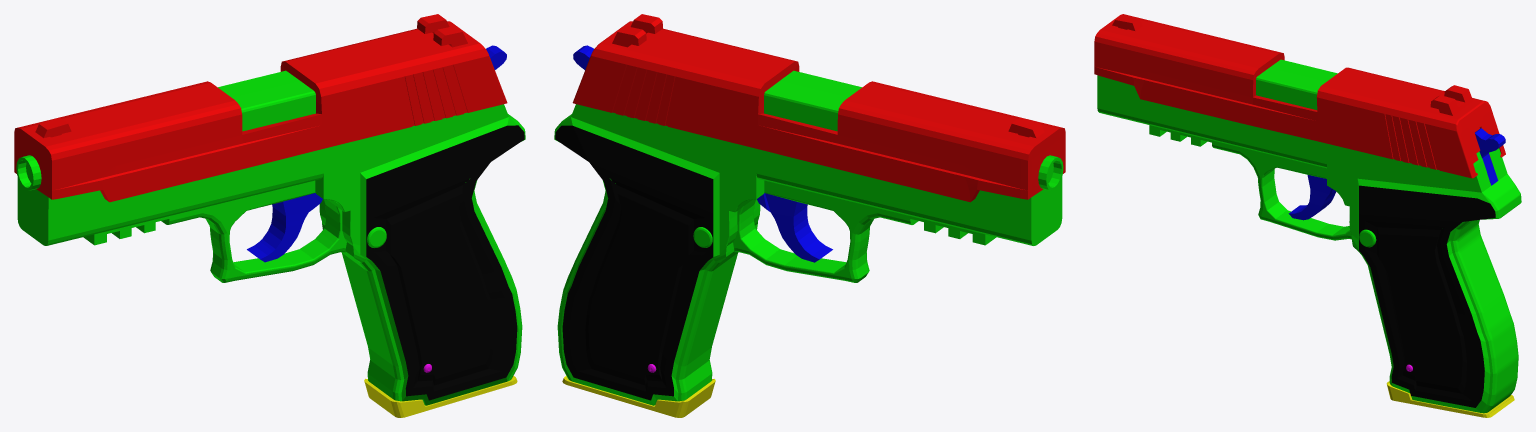
The picture shows the model from 3 angles, left to right: view 1: azimuth 30°, elevation 25°; view 2: azimuth 150°, elevation 25°; view 3: azimuth 330°, elevation 25°; orthographic projection. The views are drawn at different scales.
Visible parts, largest first — view 1: Receiver_hi, Slide_hi, Trigger_hi, Magazine_hi; view 2: Receiver_hi, Slide_hi, Trigger_hi, Magazine_hi; view 3: Receiver_hi, Slide_hi, Trigger_hi, Magazine_hi, Hammer_hi.
Boxes of the visible parts, x1,y1,x2,y2 form: Receiver_hi: [16, 70, 525, 405]; Slide_hi: [14, 14, 507, 202]; Trigger_hi: [247, 193, 322, 262]; Magazine_hi: [364, 375, 517, 417]; Receiver_hi: [554, 70, 1063, 405]; Slide_hi: [572, 14, 1065, 202]; Trigger_hi: [757, 193, 832, 262]; Magazine_hi: [562, 375, 715, 417]; Receiver_hi: [1097, 59, 1521, 413]; Slide_hi: [1094, 14, 1505, 178]; Trigger_hi: [1288, 174, 1336, 220]; Magazine_hi: [1386, 381, 1514, 417]; Hammer_hi: [1475, 128, 1505, 185].
Size of the model in its own units: 924 by 667 by 135.
